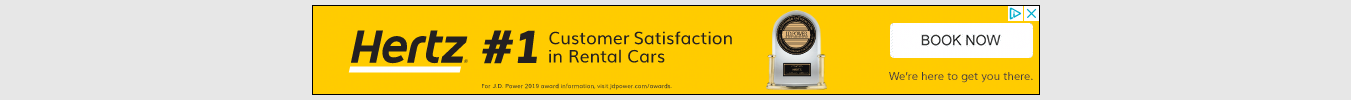fake_button: (886, 17, 1037, 66)
